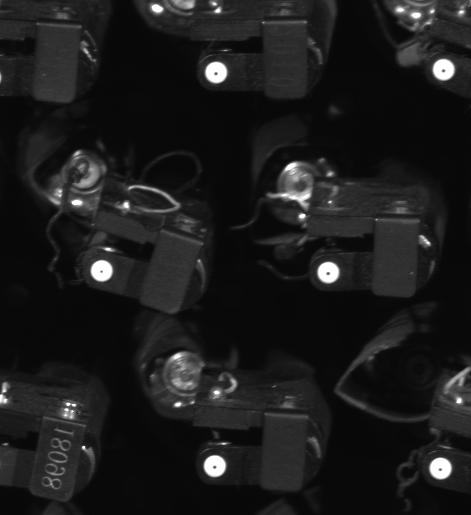fiber: (196, 449, 236, 482), (196, 54, 232, 87), (427, 53, 459, 87), (424, 452, 458, 484), (86, 255, 117, 286), (313, 257, 345, 287)
